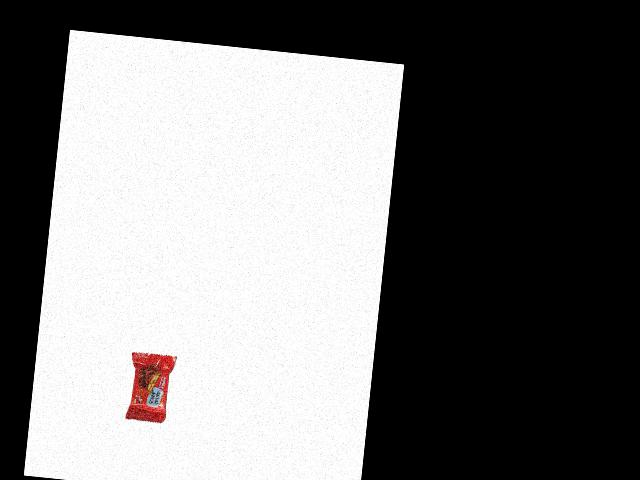chocolate: (125, 351, 181, 430)
